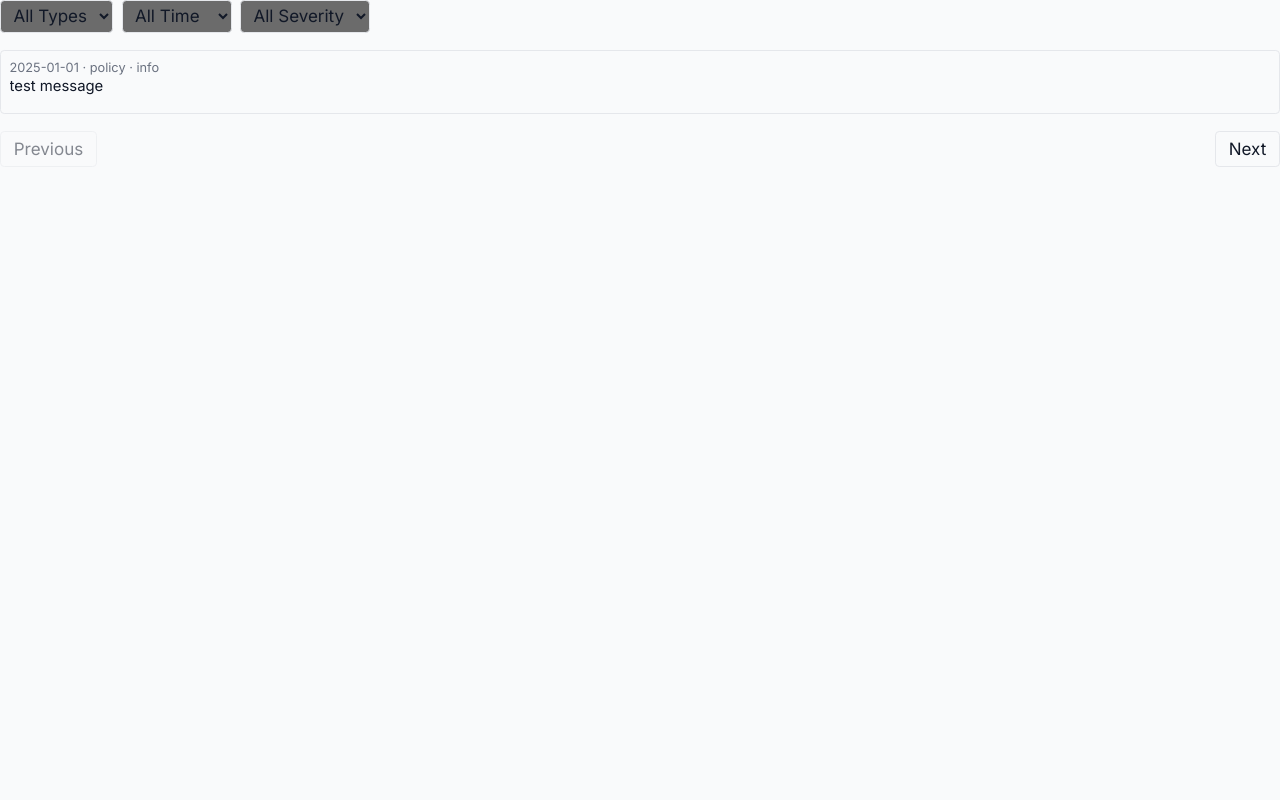
Test: AuditLogList › renders logs and opens modal
Click the text "test message": click(56, 86) [10,77,103,95]
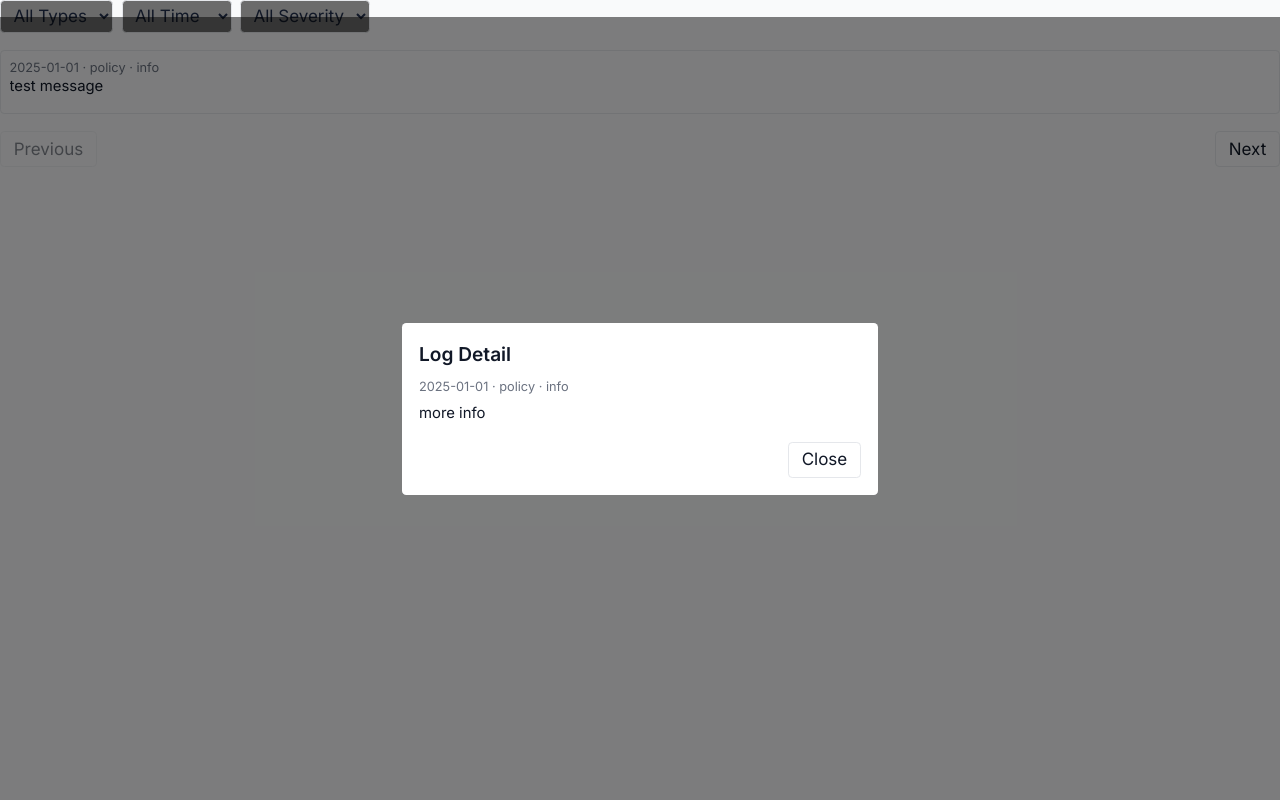
Result: the dialog shows "more info" at [419,404,486,422]
